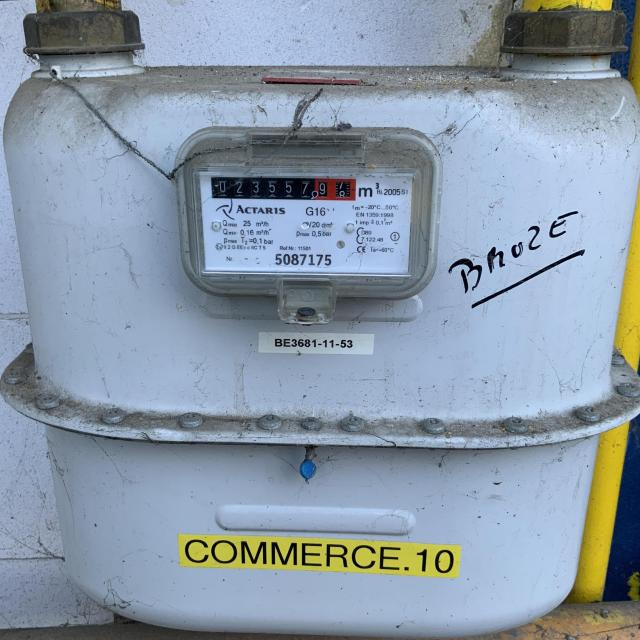gaz_meter: (189, 170, 419, 277)
indication: (212, 176, 356, 200)
